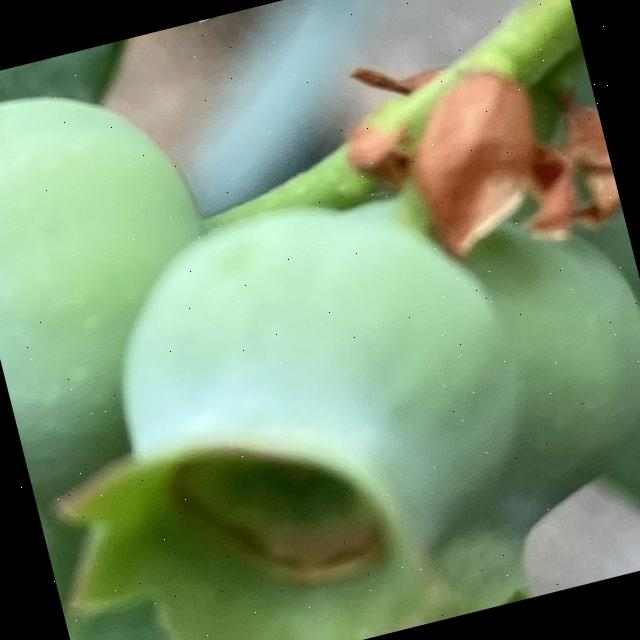Blueberries: (0, 154, 580, 640)
